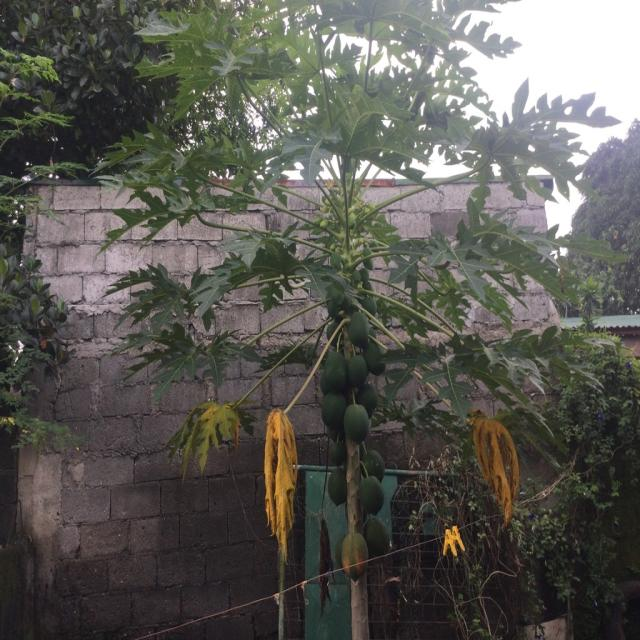Papaya-Tree: (142, 9, 567, 628)
